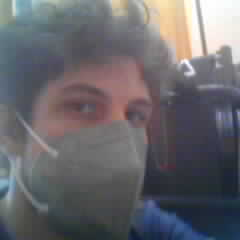with_mask: (28, 38, 155, 238)
